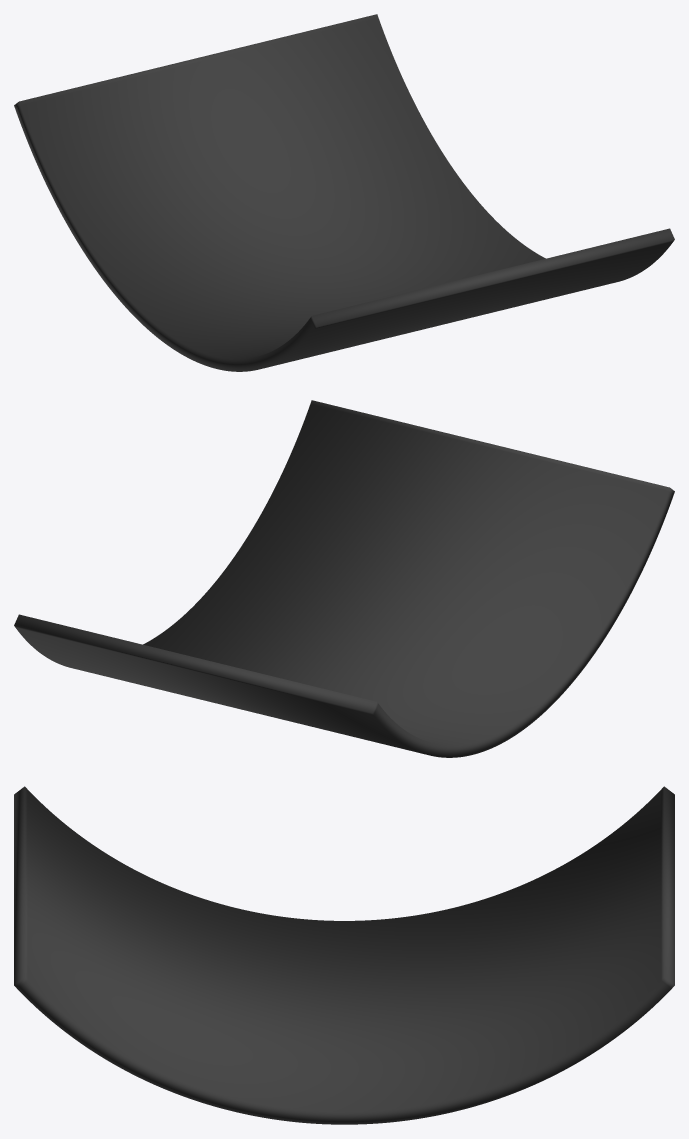
The model's file is cradle-baked.glb.
3 renders of one model, top to bottom at view 1: azimuth 30°, elevation 25°; view 2: azimuth 150°, elevation 25°; view 3: azimuth 270°, elevation 25°, orthographic. The views are drawn at different scales.
Visible parts, largest first — view 1: cradle; view 2: cradle; view 3: cradle.
Boxes of the visible parts, bbox=[...] form: cradle: bbox=[14, 14, 674, 371]; cradle: bbox=[14, 400, 674, 757]; cradle: bbox=[14, 786, 674, 1124].
Size of the model in its own units: 0.512 by 0.1843 by 0.749.
Materials: 1 (1 with a texture image).
